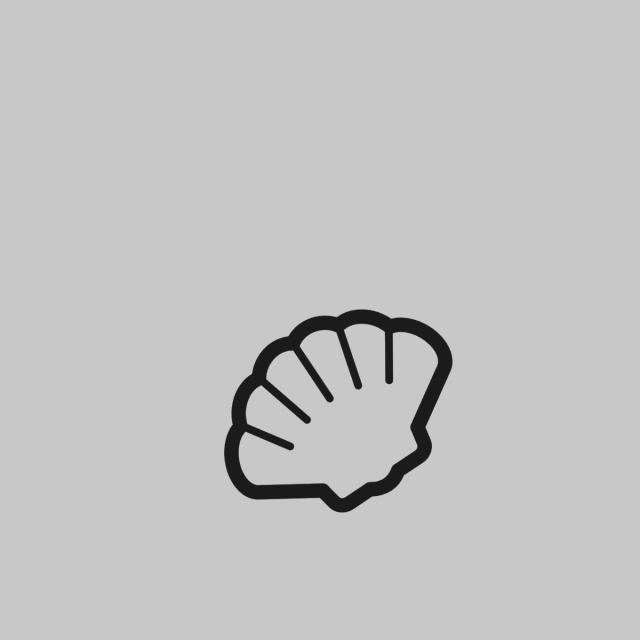shell: (219, 307, 458, 518)
